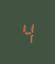four: (19, 19, 33, 44)
